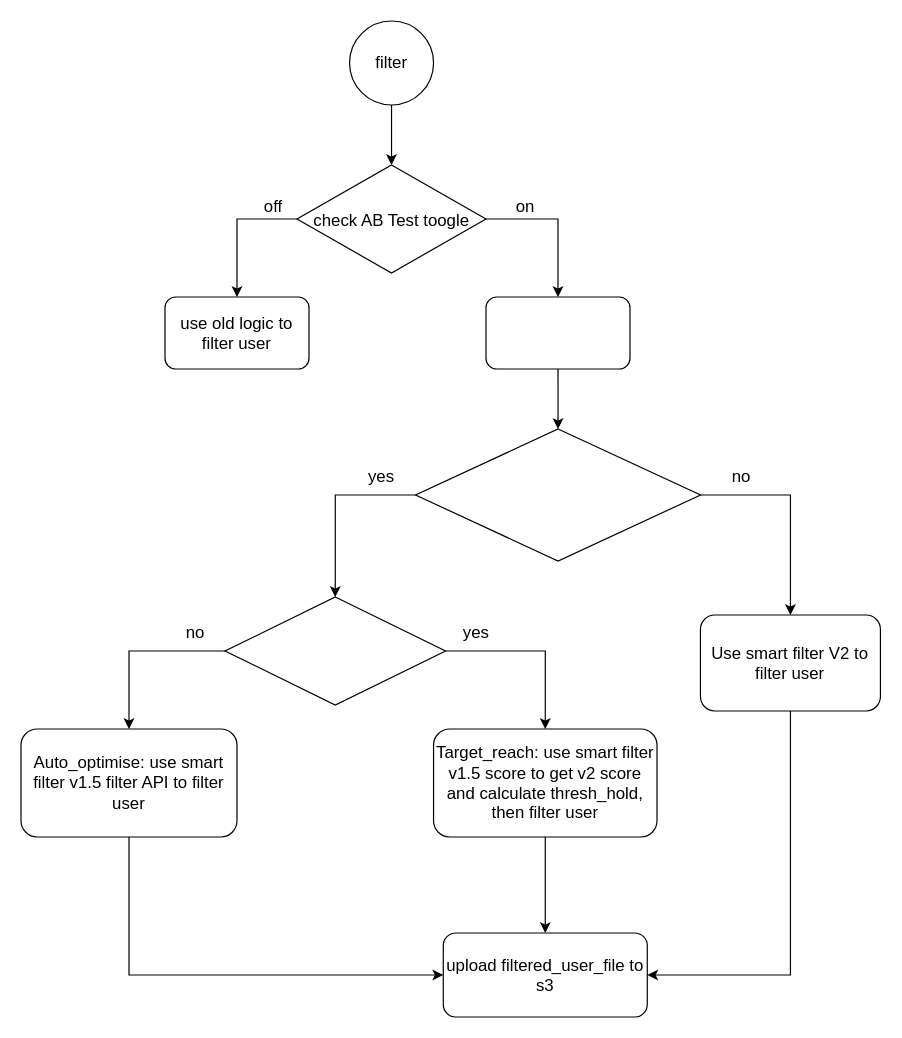
Some shapes in this 902 by 1038 pixel diagram are drawn without their labels. The centre of each missing label's shape, as x and y in pixels:
if task priority is P0 or task use target_reach to filter user: [557,494]
if task use target_reach to filter user: [335,650]
use new logic to filter user: [557,332]
